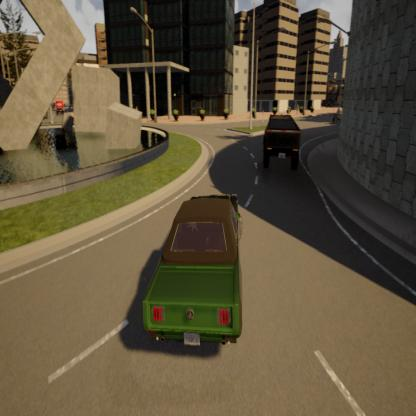Cars: (133, 183, 252, 356), (249, 102, 308, 180)
